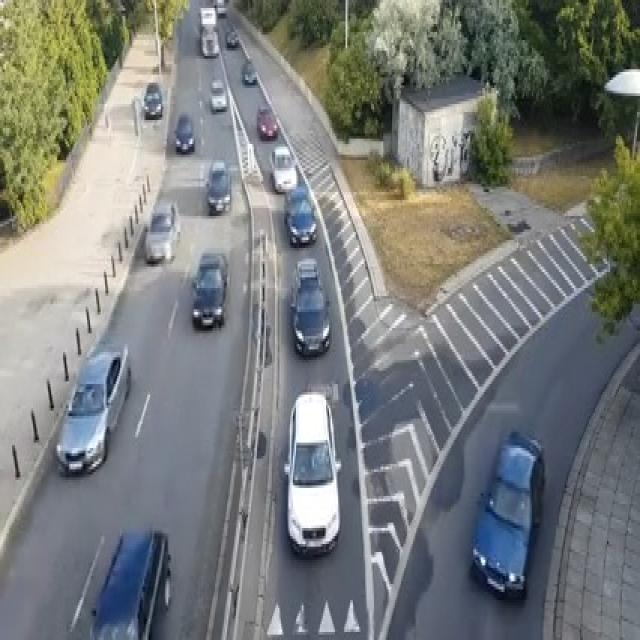car: (470, 429, 546, 600), (54, 341, 131, 475), (282, 390, 341, 558), (89, 528, 171, 637), (290, 256, 330, 355), (191, 248, 228, 328), (144, 200, 180, 261), (282, 184, 317, 245), (204, 160, 232, 213), (269, 144, 297, 192), (255, 104, 278, 139), (174, 112, 194, 152), (143, 80, 162, 117), (209, 77, 227, 112), (200, 27, 219, 56), (240, 59, 257, 85), (198, 6, 216, 30), (225, 27, 238, 48), (213, 0, 226, 16)
